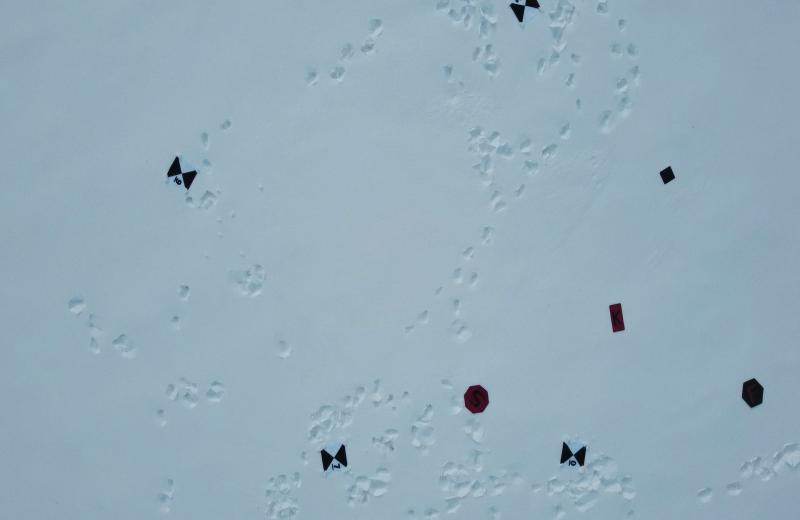Hexagon: (739, 374, 766, 408)
Octagon: (462, 380, 490, 416)
Rectangle: (606, 299, 626, 334)
Square: (658, 163, 677, 185)
